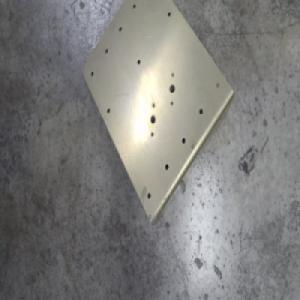MetalSheet: (79, 0, 236, 228)
